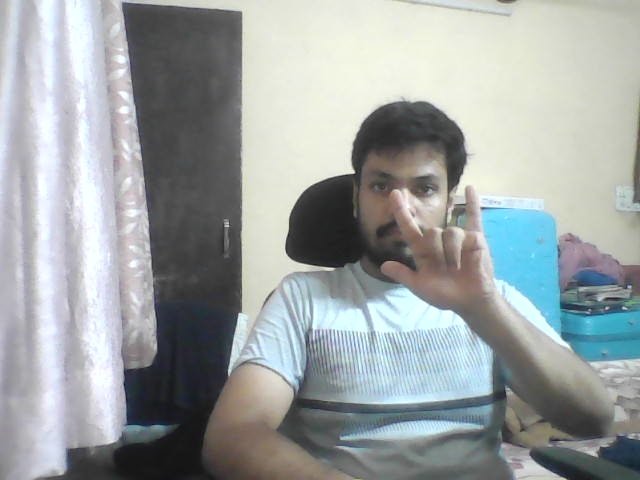I Love You: (366, 170, 529, 338)
